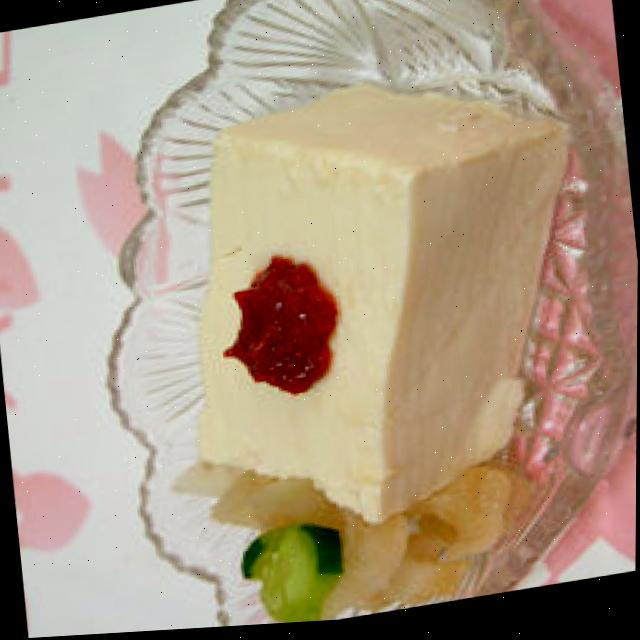豆腐料理: (149, 54, 603, 563)
